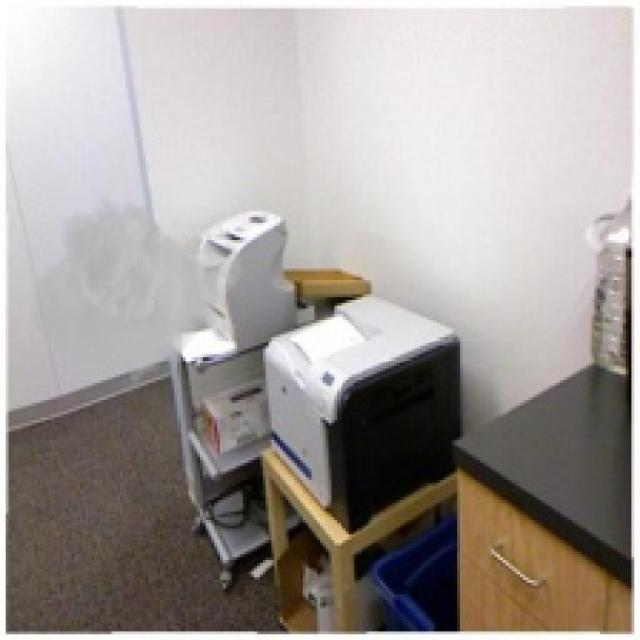smoke: (31, 194, 246, 397)
